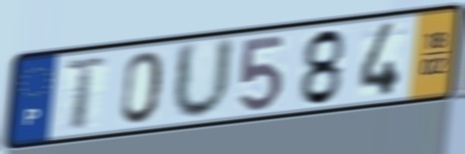0: (118, 49, 167, 126)
4: (356, 19, 403, 99)
5: (234, 31, 290, 114)
8: (298, 24, 348, 110)
T: (61, 55, 111, 132)
U: (169, 34, 238, 123)
